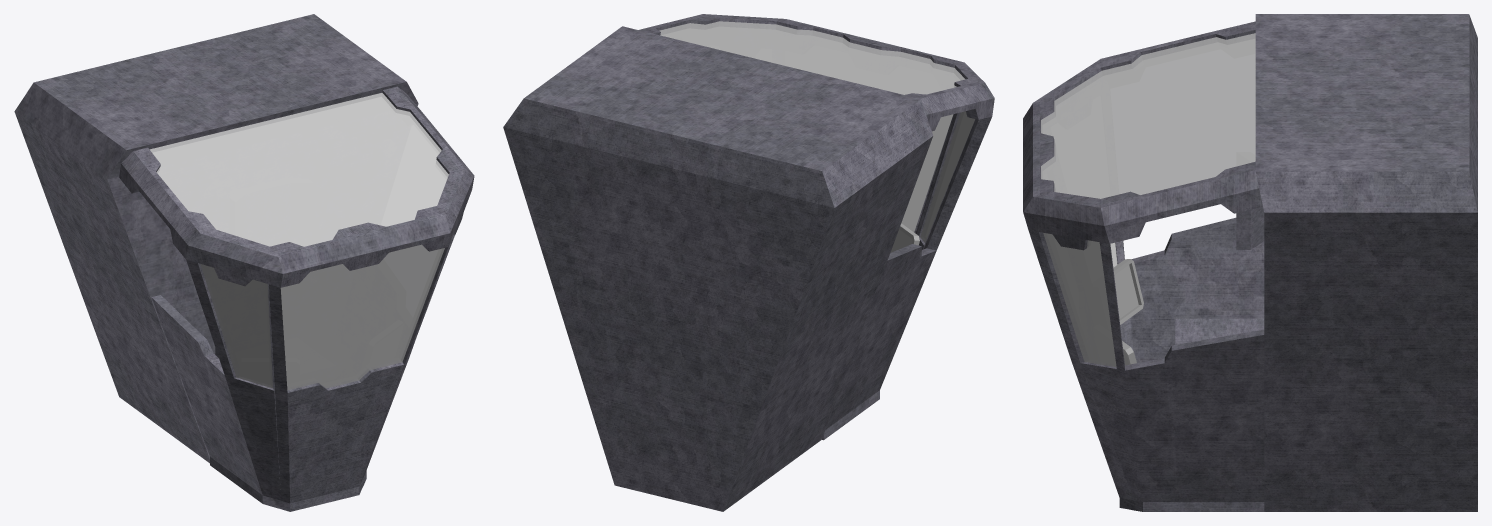
Rendered from MechCockpit.fbx.
3 views of the same model, side by side, from view 1: azimuth 30°, elevation 25°; view 2: azimuth 150°, elevation 25°; view 3: azimuth 270°, elevation 25° (orthographic). The views are drawn at different scales.
Visible parts, largest first — view 1: MechBack, CockpitFrame, TopGlass, FrontGlass, RightCornerGalss; view 2: MechBack, CockpitFrame, TopGlass, FrontGlass, RightCornerGalss; view 3: MechBack, CockpitFrame, TopGlass, LeftCornerGlass, Seat, RightScreenPanel, Headrest.
Boxes of the visible parts, <box> form: MechBack: <box>14,14,418,463</box>; CockpitFrame: <box>119,86,474,511</box>; TopGlass: <box>150,93,448,246</box>; FrontGlass: <box>280,244,444,390</box>; RightCornerGalss: <box>200,264,272,388</box>; MechBack: <box>503,26,933,511</box>; CockpitFrame: <box>639,14,994,440</box>; TopGlass: <box>659,21,965,94</box>; FrontGlass: <box>901,114,953,232</box>; RightCornerGalss: <box>920,111,975,242</box>; MechBack: <box>1255,14,1477,511</box>; CockpitFrame: <box>1023,21,1264,511</box>; TopGlass: <box>1041,33,1255,198</box>; LeftCornerGlass: <box>1043,233,1116,367</box>; Seat: <box>1175,318,1264,344</box>; RightScreenPanel: <box>1113,259,1143,324</box>; Headrest: <box>1236,206,1264,249</box>.
Bounding box in the file's own units: 1.94 × 2.05 × 2.13.
